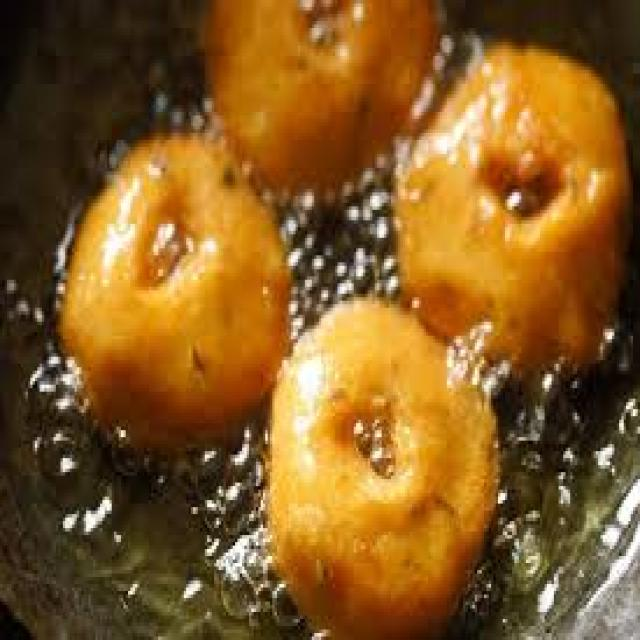MEDU VADA: (270, 297, 498, 637), (396, 45, 628, 360), (58, 136, 289, 441)
